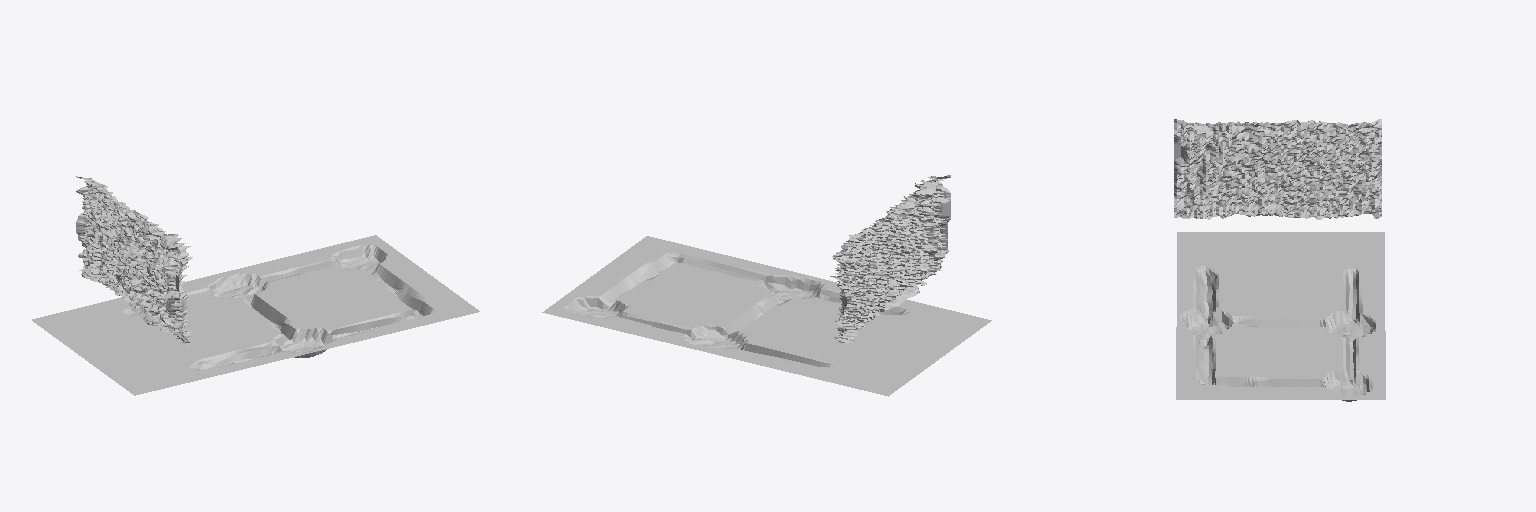
File: hangar.obj
3 renders of one model, left to right at view 1: azimuth 30°, elevation 25°; view 2: azimuth 150°, elevation 25°; view 3: azimuth 270°, elevation 25°, orthographic.
Visible parts, largest first — view 1: Cube.003; view 2: Cube.003; view 3: Cube.003.
Boxes of the visible parts, <box> form: Cube.003: <box>32,176,479,395</box>; Cube.003: <box>542,175,991,396</box>; Cube.003: <box>1174,119,1385,401</box>.
Size of the model in its own units: 71.82 by 29.43 by 38.12.